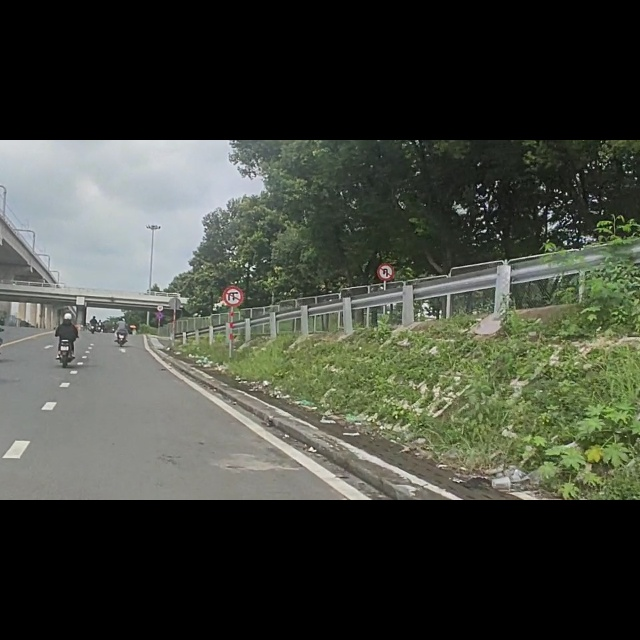bien_cam: (223, 260, 245, 296), (377, 218, 395, 251), (156, 290, 165, 305), (157, 306, 164, 318)
